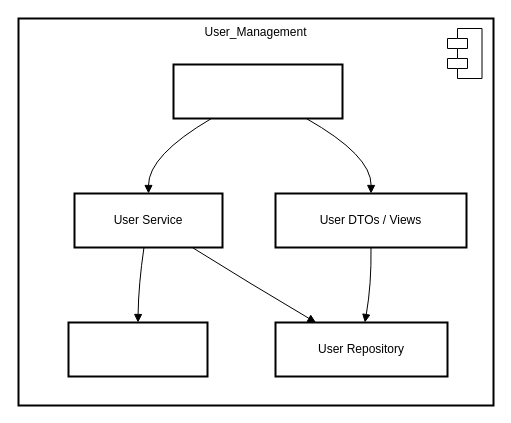
Some shapes in this 511 by 423 pixel diagram are drawn without their labels. The shapes that lost their labels are listed below. From the top down, each one's box as (x1, y1, x2, y2) in pixels, then its label:
(172, 63, 343, 119): User Controller
(67, 321, 208, 377): User Entity
